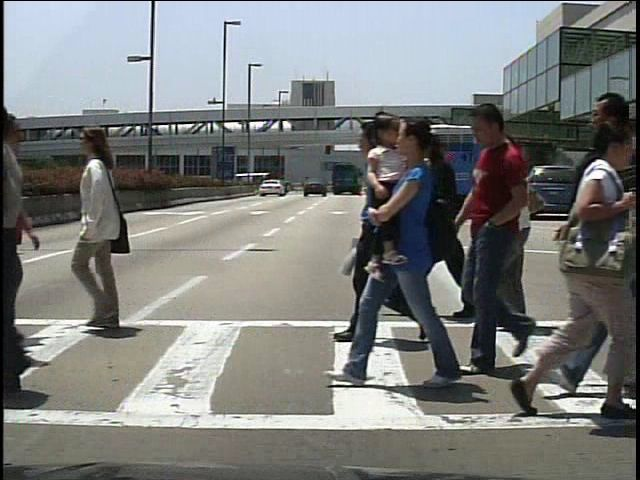person: (501, 111, 637, 427), (338, 119, 443, 347), (468, 101, 545, 378), (63, 121, 155, 345), (0, 79, 61, 400), (402, 130, 475, 322), (490, 140, 559, 335), (582, 168, 602, 218), (492, 164, 510, 216)
